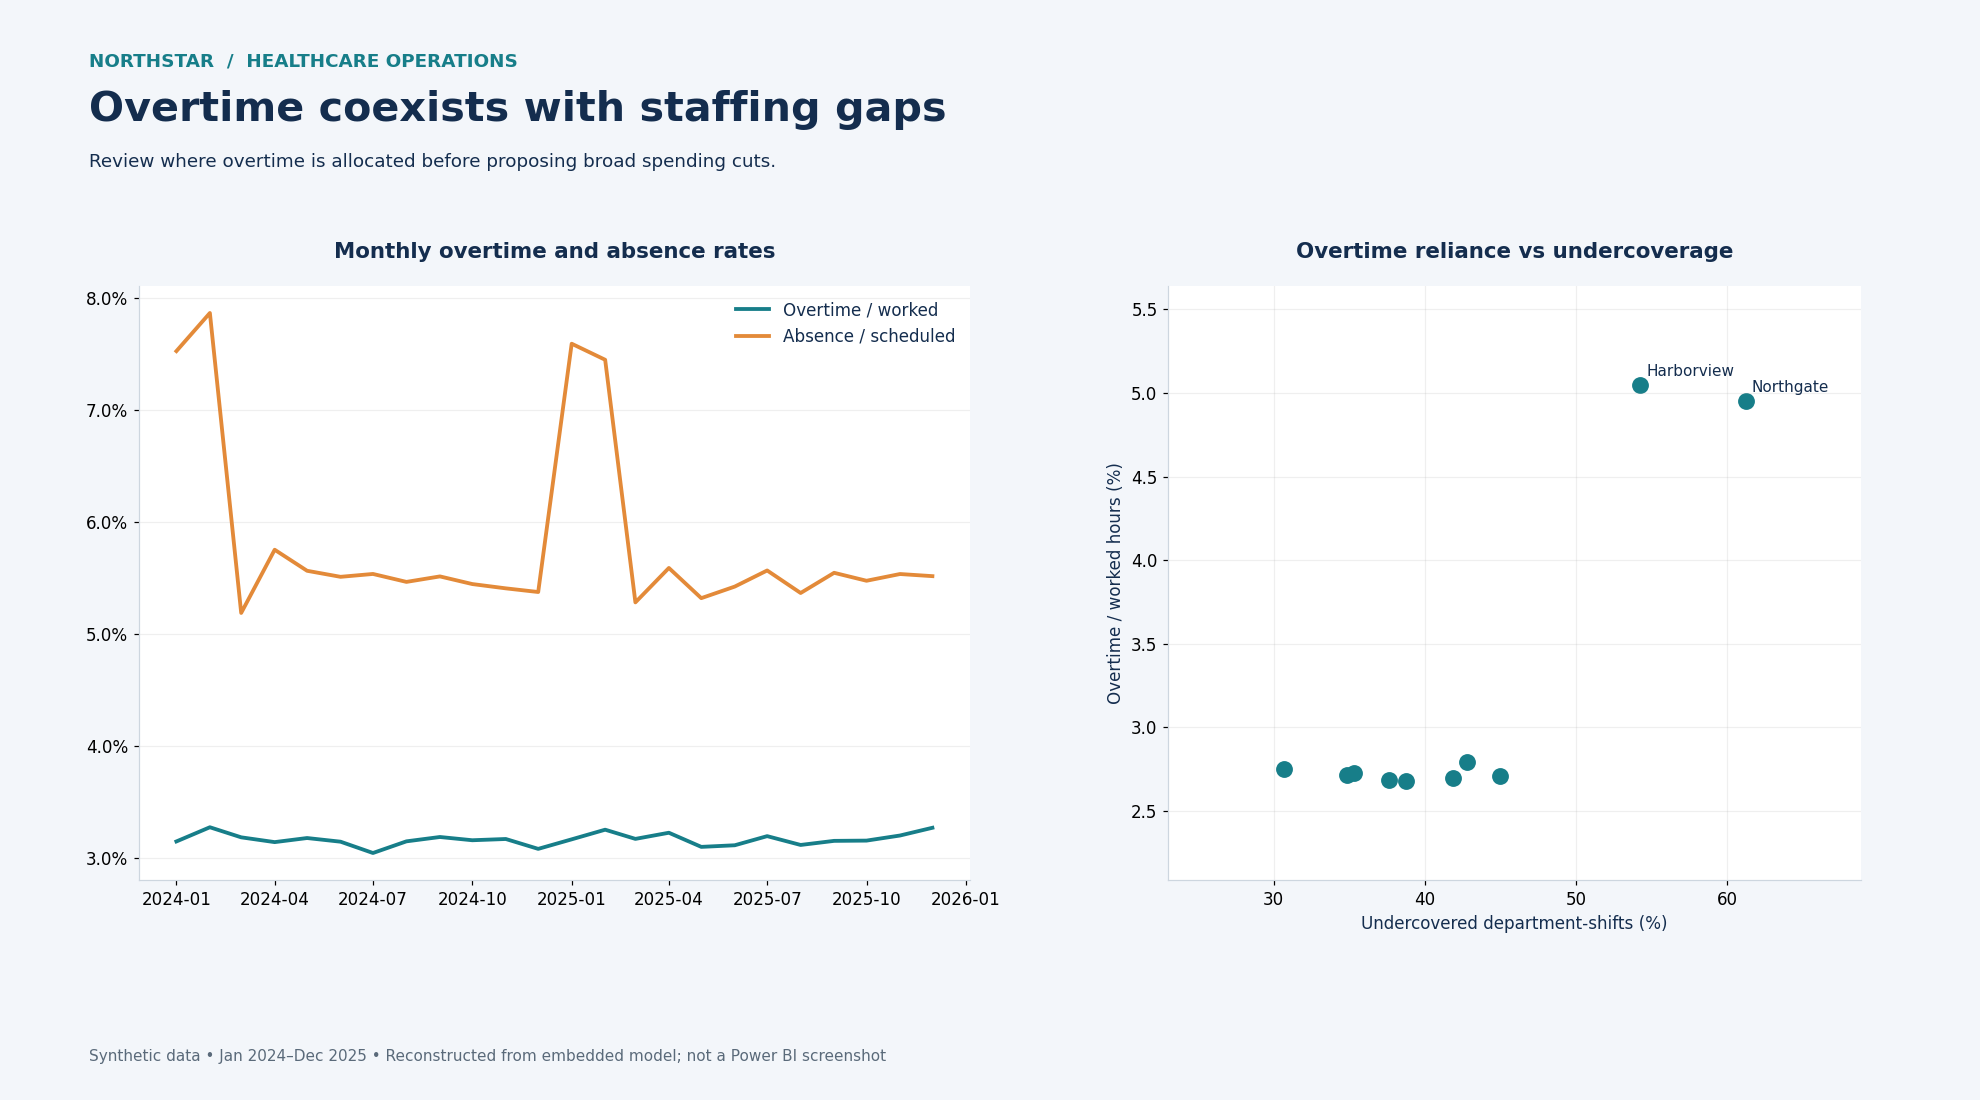

What the dashboard file says about the page in this screenshot:
{"tool":"powerbi","page":{"name":"Overtime and Staffing Pressure","canvas":[1920,1080],"ordinal":1},"visuals":[{"type":"textbox","box":[150.7,26.4,659.3,44],"z":0},{"type":"cardVisual","fields":{"Data":["fact_shift_coverage.Overtime Labor Cost"]},"box":[116.8,203.4,193,150.6],"z":1000},{"type":"cardVisual","fields":{"Data":["fact_shift_coverage.Overtime %"]},"box":[352.9,203.4,193,150.6],"z":2000},{"type":"cardVisual","fields":{"Data":["fact_shift_coverage.Absence %"]},"box":[835.1,203.4,193,150.6],"z":3000},{"type":"cardVisual","fields":{"Data":["fact_shift_coverage.Uncovered Staff Hours"]},"box":[585.2,203.4,193,150.6],"z":4000},{"type":"lineChart","title":"Monthly Overtime and Absence Rates.","fields":{"Category":["dim_date.Month Start"],"Y":["fact_shift_coverage.Overtime %","fact_shift_coverage.Absence %"]},"box":[44,381.8,811.3,590.2],"z":5000},{"type":"scatterChart","title":"Overtime Reliance and Undercoverage by Facility","fields":{"Category":["dim_facility.facility_name"],"X":["fact_shift_coverage.Undercovered Shifts %"],"Y":["fact_shift_coverage.Overtime %"]},"box":[946.9,381.8,905.4,590.2],"z":6000},{"type":"slicer","title":"Facility","fields":{"Values":["dim_facility.facility_name"]},"box":[229.8,87.9,439.5,106.7],"z":7000},{"type":"textbox","box":[1086.3,36.4,793.7,298.9],"z":8000},{"type":"textbox","box":[0,999.6,1920.1,52.7],"z":9000}]}

Visuals, with their boxes in screenshot pixels (x1, y1, x2, y2), scaled from the page's 1920x1080 canvas onto the 1980x1100 screenshot:
textbox: [155, 27, 835, 72]
cardVisual - fact_shift_coverage.Overtime Labor Cost: [120, 207, 319, 361]
cardVisual - fact_shift_coverage.Overtime %: [364, 207, 563, 361]
cardVisual - fact_shift_coverage.Absence %: [861, 207, 1060, 361]
cardVisual - fact_shift_coverage.Uncovered Staff Hours: [603, 207, 803, 361]
"Monthly Overtime and Absence Rates." lineChart: [45, 389, 882, 990]
"Overtime Reliance and Undercoverage by Facility" scatterChart: [976, 389, 1910, 990]
"Facility" slicer: [237, 90, 690, 198]
textbox: [1120, 37, 1939, 342]
textbox: [0, 1018, 1979, 1072]
